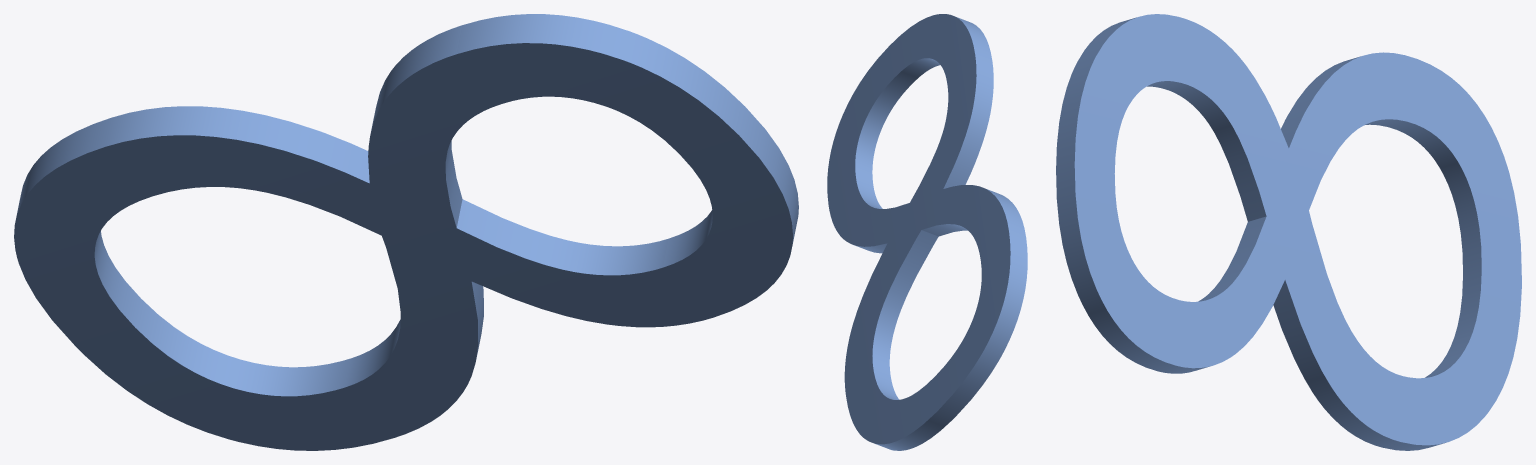
Rendered from New_Number_8.gltf.
3 renders of one model, left to right at view 1: azimuth 30°, elevation 25°; view 2: azimuth 150°, elevation 25°; view 3: azimuth 270°, elevation 25°, orthographic. The views are drawn at different scales.
Visible parts, largest first — view 1: Part 179; view 2: Part 179; view 3: Part 179.
Part boxes in pixels (<box>): Part 179: <box>14,14,798,450</box>; Part 179: <box>827,14,1027,450</box>; Part 179: <box>1056,14,1521,450</box>.
Size of the model in its own units: 0.00444 by 0.00441 by 0.00421.
